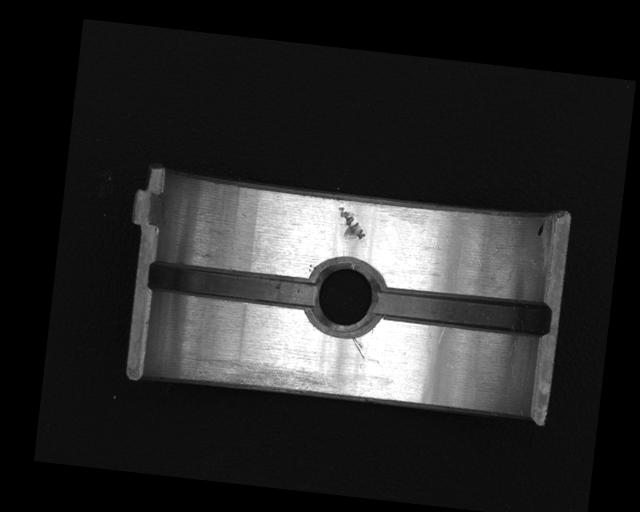blot: (535, 221, 546, 238)
bruise: (333, 205, 369, 244)
gap: (371, 285, 551, 338), (145, 260, 318, 311)
hole: (302, 257, 385, 339)
nick: (349, 335, 366, 359)
scratch: (182, 350, 339, 400)
